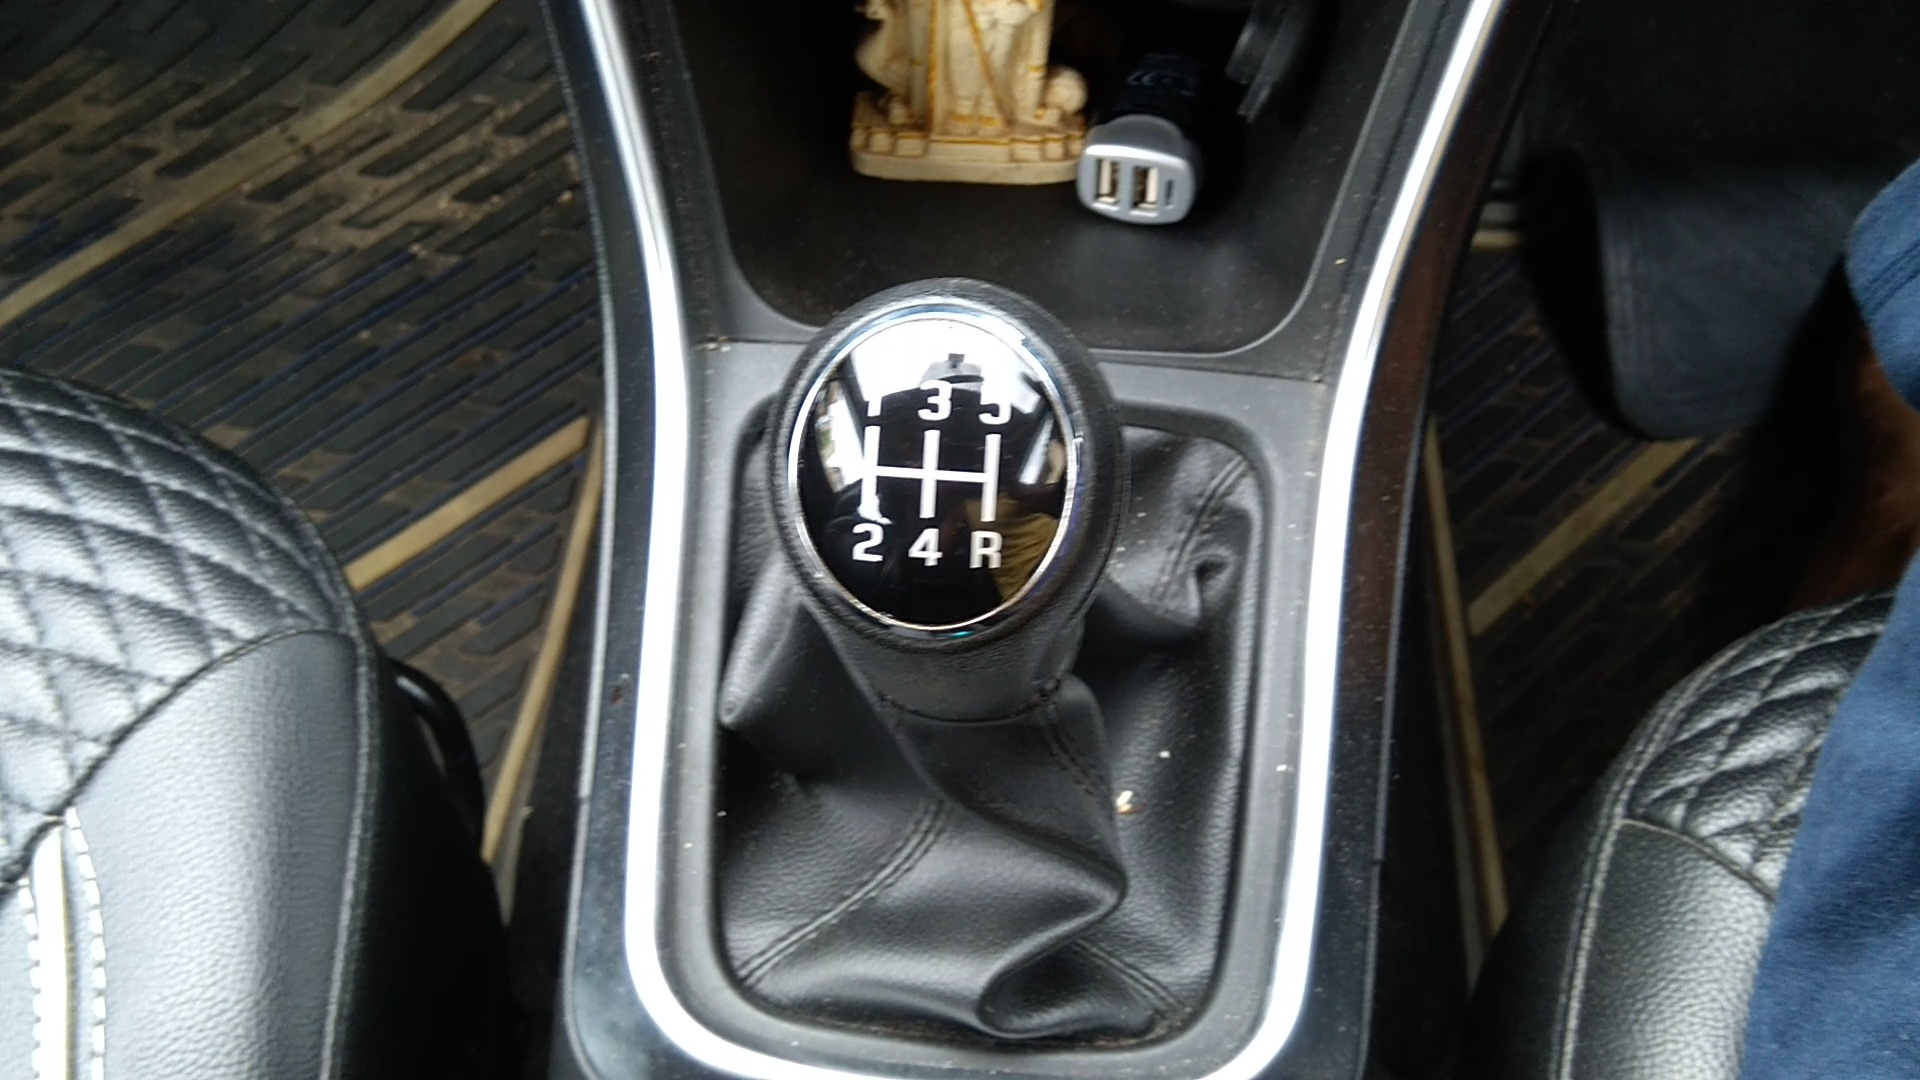manual_gear: (744, 282, 1145, 740)
